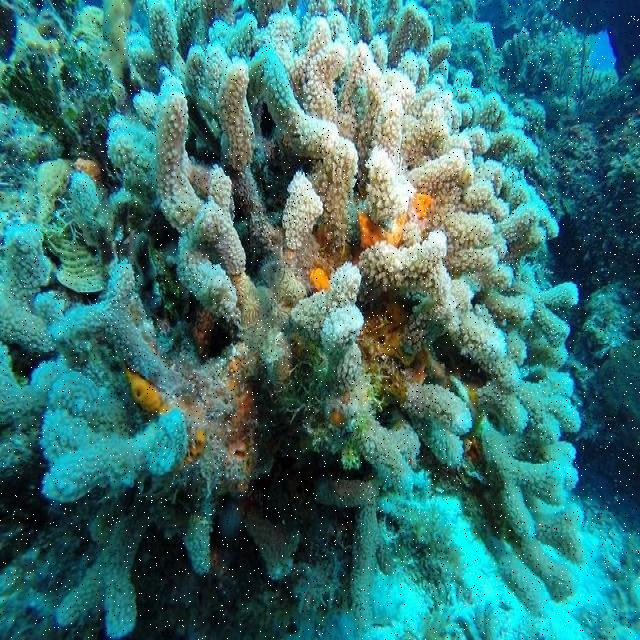reefs: (0, 0, 585, 637)
